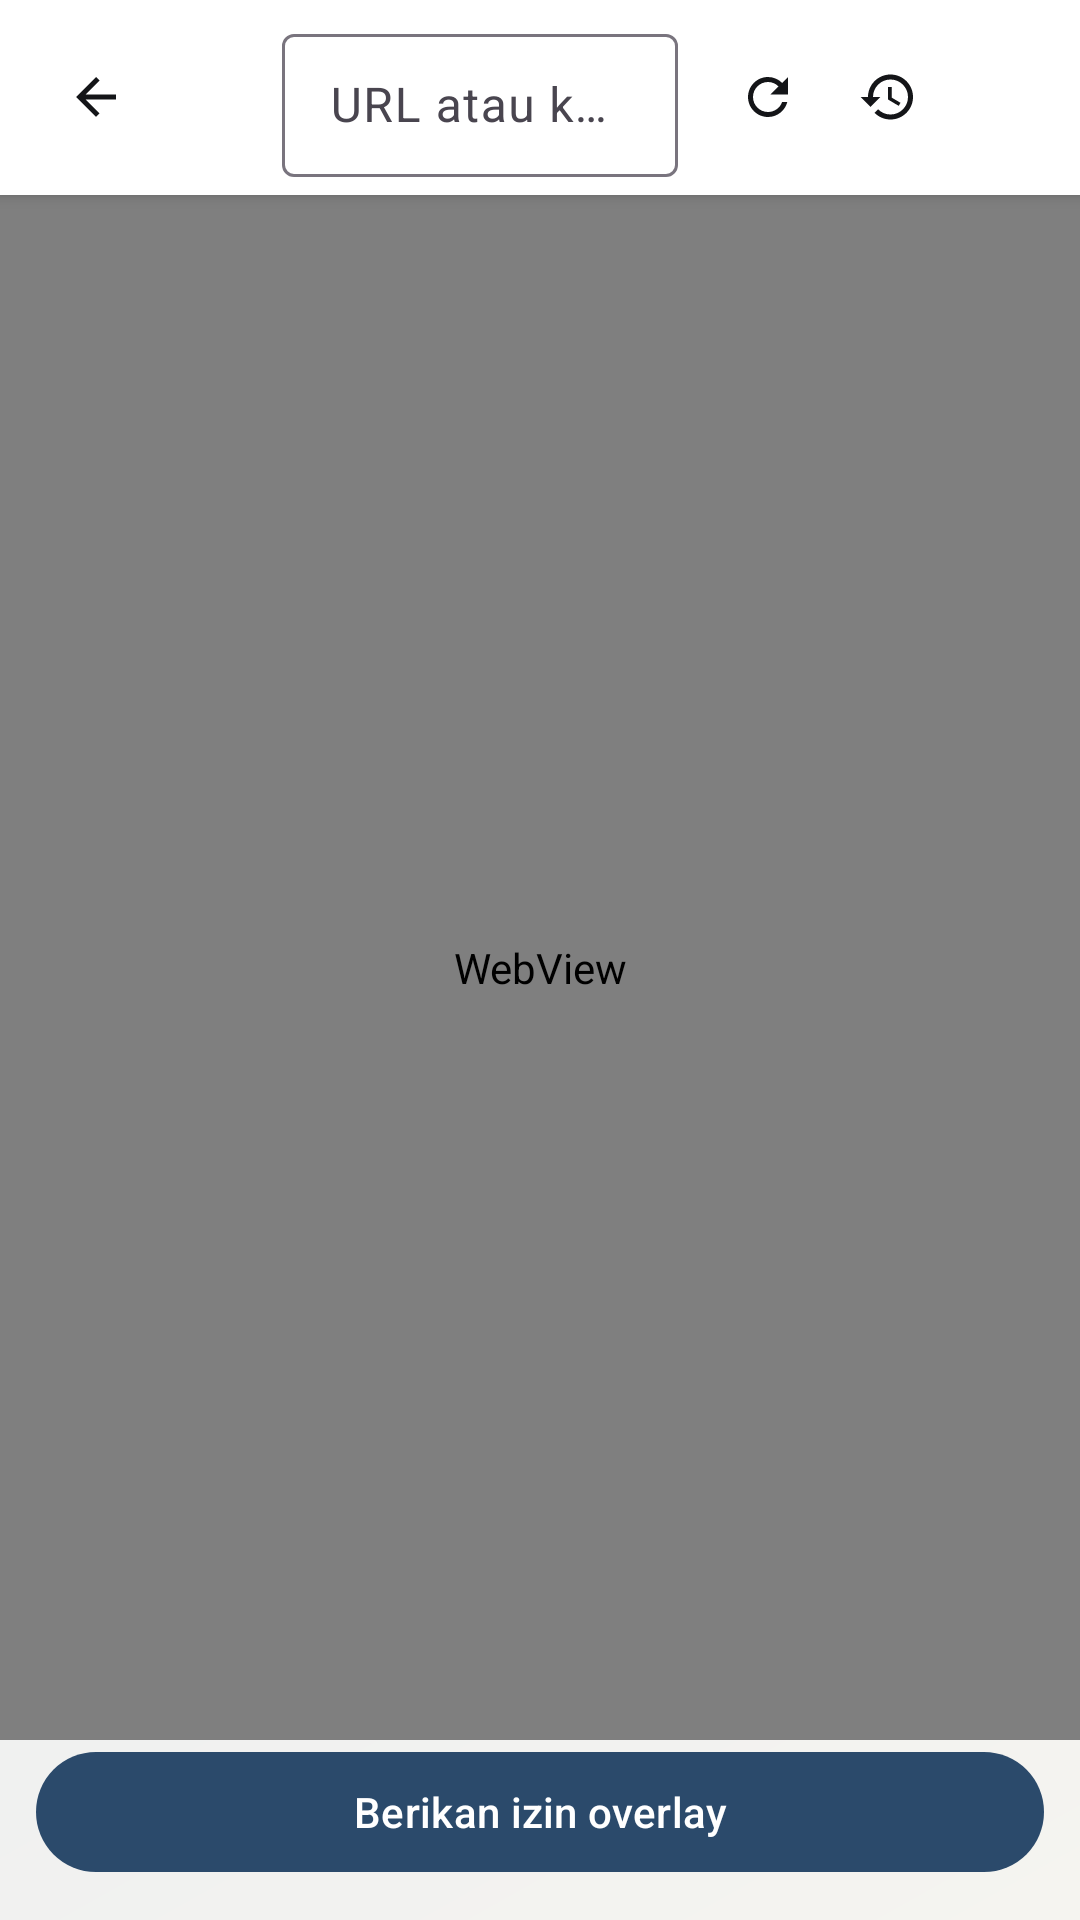

Point at icon controls on the screen. Image size 1080 x 1920, points as (x,y).
Kembali: (96,97)
Muat ulang: (768,97)
Riwayat unduhan: (887,97)
